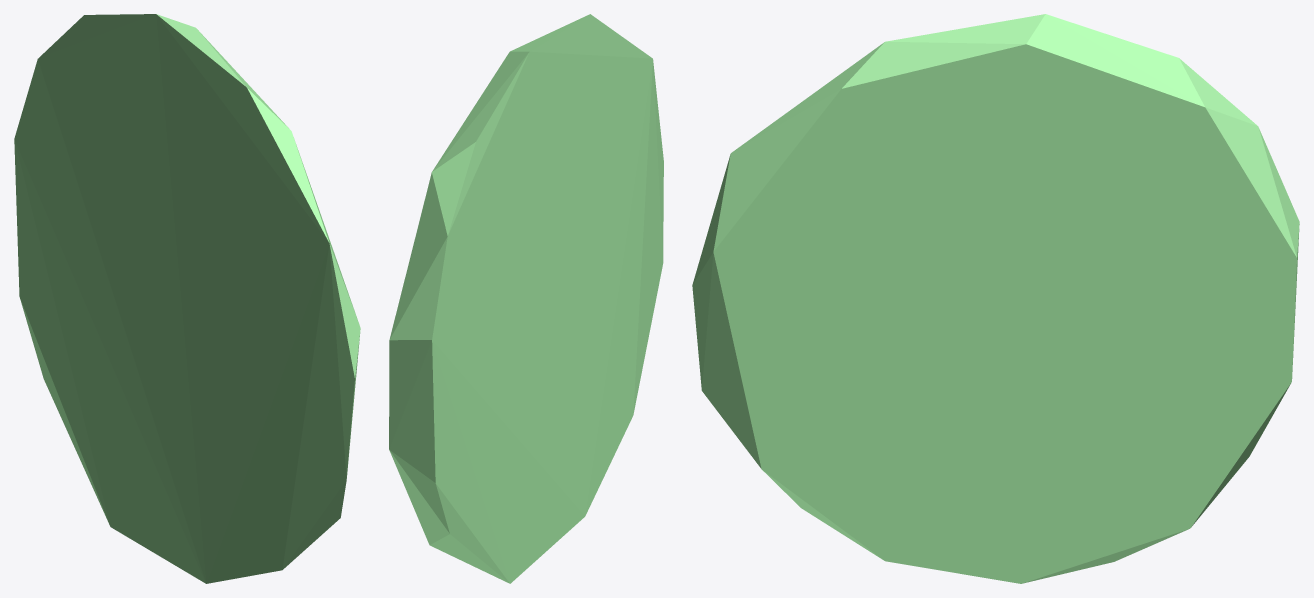
File: linkhou_LR4_R560_link4_respondable_coll_3.dae
The picture shows the model from 3 angles, left to right: view 1: azimuth 30°, elevation 25°; view 2: azimuth 150°, elevation 25°; view 3: azimuth 270°, elevation 25°; orthographic projection. The views are drawn at different scales.
Visible parts, largest first — view 1: Node_00000209DB3AA780; view 2: Node_00000209DB3AA780; view 3: Node_00000209DB3AA780.
Part boxes in pixels (x1,y1,x2,y2): Node_00000209DB3AA780: (14,14,360,583); Node_00000209DB3AA780: (389,14,663,583); Node_00000209DB3AA780: (692,14,1299,583).
Bounding box in the file's own units: 0.0103 × 0.0784 × 0.0779.
